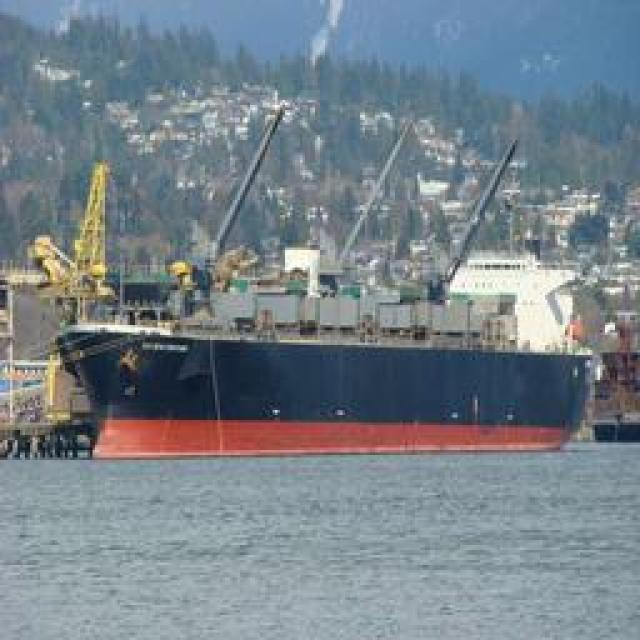CIV_Ship: (60, 247, 599, 452)
